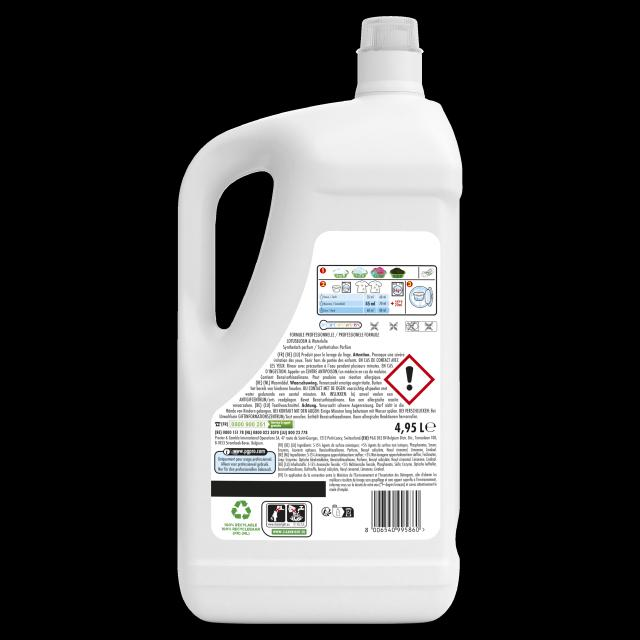GHS_Symbol_EXCLAMATION_MARK: (385, 354, 435, 404)
